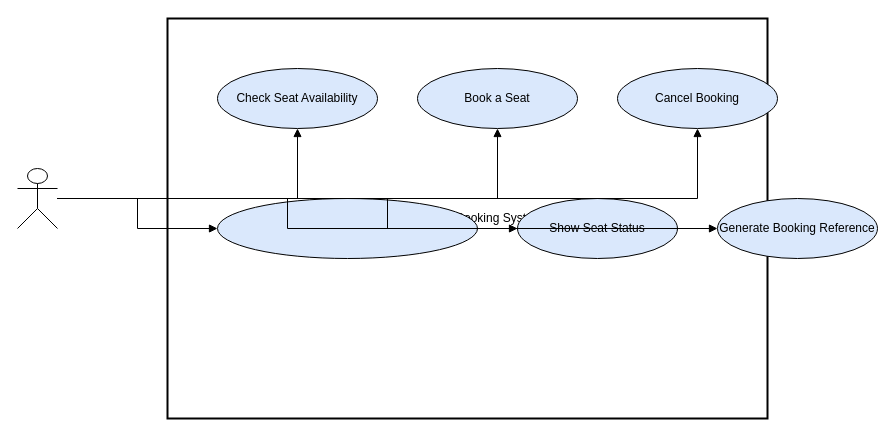
Some shapes in this 895 by 436 pixel diagram are drawn without their labels. The shapes that lost their labels are listed below. From the top down, each one's centre as x and y in pixels, then its label:
the point at 37,198: User
the point at 347,228: Filter Seats (Window/Aisle/Middle)
